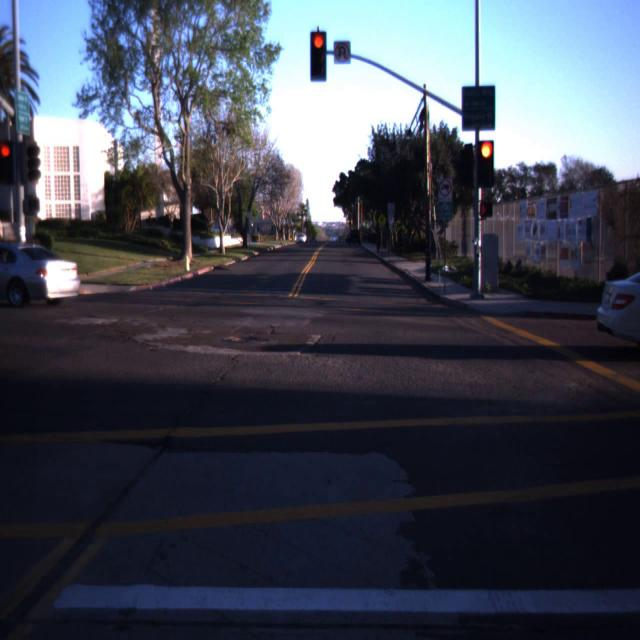kirmizi: (310, 26, 327, 82), (477, 140, 494, 187), (0, 141, 13, 185)
